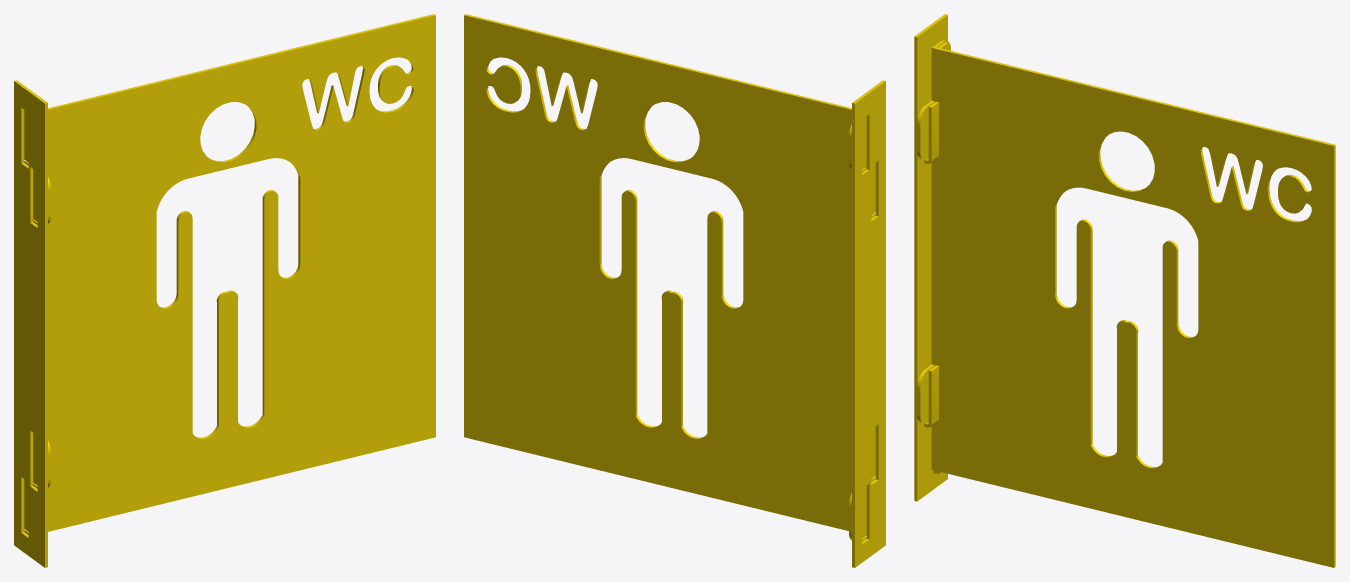
3 renders of one model, left to right at view 1: azimuth 30°, elevation 25°; view 2: azimuth 150°, elevation 25°; view 3: azimuth 330°, elevation 25°, orthographic.
Parts seen in each view (by area): view 1: SketchUp.002, group_0, SketchUp.006, group_1, SketchUp; view 2: SketchUp.001, group_0, SketchUp.006, group_1, SketchUp; view 3: SketchUp.002, group_0, group_1, SketchUp, SketchUp.006, group_0.004, group_0.003.
Boxes of the visible parts, x1,y1,x2,y2 form: SketchUp.002: (33,15,435,531); group_0: (14,80,47,567); SketchUp.006: (159,163,300,438); group_1: (24,110,50,531); SketchUp: (48,14,435,109); SketchUp.001: (464,15,866,530); group_0: (852,80,885,567); SketchUp.006: (599,163,740,438); group_1: (849,116,875,540); SketchUp: (464,14,851,109); SketchUp.002: (931,48,1333,567); group_0: (914,14,947,501); group_1: (917,40,950,470); SketchUp: (935,47,1335,567); SketchUp.006: (1055,192,1195,468); group_0.004: (924,101,938,163); group_0.003: (924,365,938,427).
Bounding box in the file's own units: 0.4021 × 0.4401 × 0.053.
Materials: 2 (1 with a texture image).
